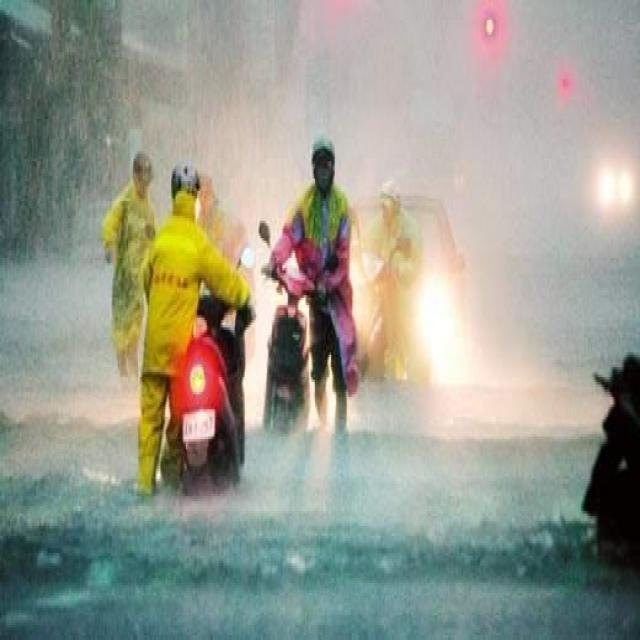car: (346, 191, 472, 375)
